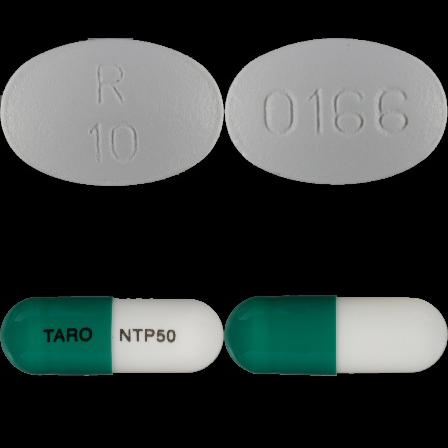52125-961: (0, 0, 224, 224)
